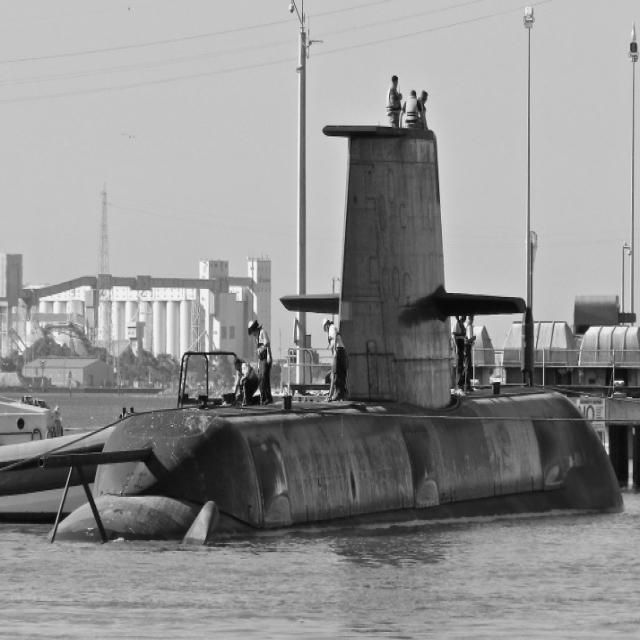submarine: (58, 133, 636, 541)
